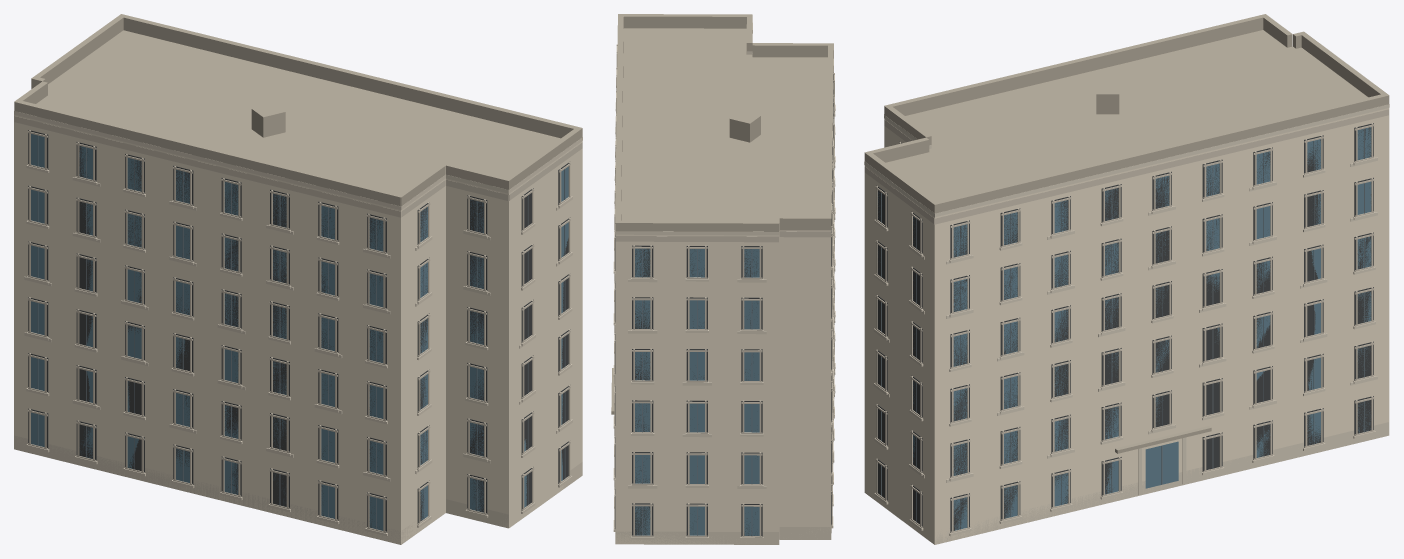
Rendered from cop_art_deco_carioca_04__way_488128345.fbx.
3 renders of one model, left to right at view 1: azimuth 30°, elevation 25°; view 2: azimuth 150°, elevation 25°; view 3: azimuth 270°, elevation 25°, orthographic. The views are drawn at different scales.
Parts seen in each view (by area): view 1: cop_art_deco_carioca_04__way_488128345_wall, cop_art_deco_carioca_04__way_488128345_roof, cop_art_deco_carioca_04__way_488128345_glass, cop_art_deco_carioca_04__way_488128345_shadow, cop_art_deco_carioca_04__way_488128345_trim, cop_art_deco_carioca_04__way_488128345_stone, cop_art_deco_carioca_04__way_488128345_metal; view 2: cop_art_deco_carioca_04__way_488128345_wall, cop_art_deco_carioca_04__way_488128345_roof, cop_art_deco_carioca_04__way_488128345_glass, cop_art_deco_carioca_04__way_488128345_trim, cop_art_deco_carioca_04__way_488128345_stone, cop_art_deco_carioca_04__way_488128345_shadow, cop_art_deco_carioca_04__way_488128345_metal; view 3: cop_art_deco_carioca_04__way_488128345_wall, cop_art_deco_carioca_04__way_488128345_roof, cop_art_deco_carioca_04__way_488128345_shadow, cop_art_deco_carioca_04__way_488128345_trim, cop_art_deco_carioca_04__way_488128345_glass, cop_art_deco_carioca_04__way_488128345_stone, cop_art_deco_carioca_04__way_488128345_metal.
Boxes of the visible parts, left/top/right/bottom form: cop_art_deco_carioca_04__way_488128345_wall: left=14, top=114, right=582, bottom=544; cop_art_deco_carioca_04__way_488128345_roof: left=14, top=14, right=582, bottom=206; cop_art_deco_carioca_04__way_488128345_glass: left=31, top=134, right=568, bottom=530; cop_art_deco_carioca_04__way_488128345_shadow: left=28, top=130, right=570, bottom=532; cop_art_deco_carioca_04__way_488128345_trim: left=14, top=116, right=582, bottom=533; cop_art_deco_carioca_04__way_488128345_stone: left=14, top=87, right=582, bottom=544; cop_art_deco_carioca_04__way_488128345_metal: left=37, top=135, right=565, bottom=529; cop_art_deco_carioca_04__way_488128345_wall: left=615, top=69, right=833, bottom=544; cop_art_deco_carioca_04__way_488128345_roof: left=611, top=14, right=833, bottom=414; cop_art_deco_carioca_04__way_488128345_glass: left=635, top=248, right=759, bottom=535; cop_art_deco_carioca_04__way_488128345_trim: left=614, top=44, right=834, bottom=537; cop_art_deco_carioca_04__way_488128345_stone: left=613, top=23, right=835, bottom=544; cop_art_deco_carioca_04__way_488128345_shadow: left=615, top=72, right=833, bottom=536; cop_art_deco_carioca_04__way_488128345_metal: left=642, top=248, right=752, bottom=535; cop_art_deco_carioca_04__way_488128345_wall: left=864, top=108, right=1389, bottom=544; cop_art_deco_carioca_04__way_488128345_roof: left=864, top=14, right=1389, bottom=453; cop_art_deco_carioca_04__way_488128345_shadow: left=876, top=123, right=1373, bottom=532; cop_art_deco_carioca_04__way_488128345_trim: left=864, top=109, right=1388, bottom=533; cop_art_deco_carioca_04__way_488128345_glass: left=877, top=127, right=1371, bottom=530; cop_art_deco_carioca_04__way_488128345_stone: left=864, top=104, right=1389, bottom=544; cop_art_deco_carioca_04__way_488128345_metal: left=881, top=128, right=1364, bottom=529.
Bounding box in the file's own units: 2250 × 1912 × 2614.
